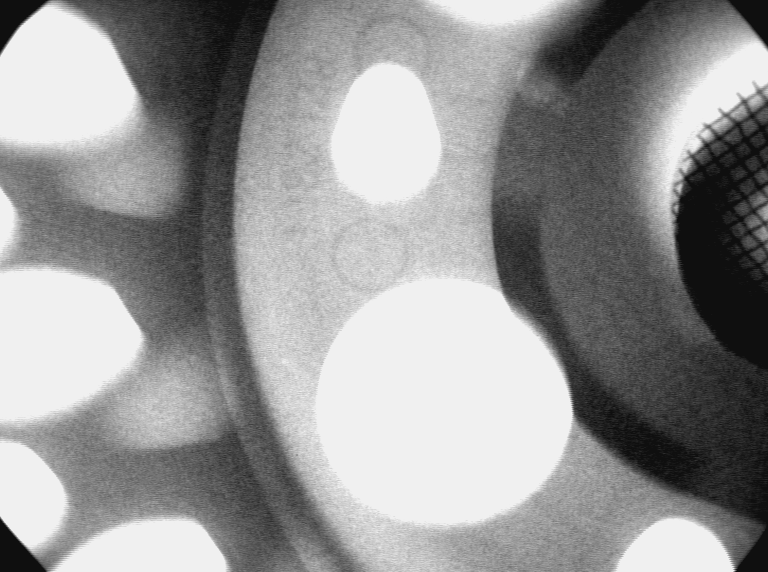defect: (515, 62, 571, 117)
